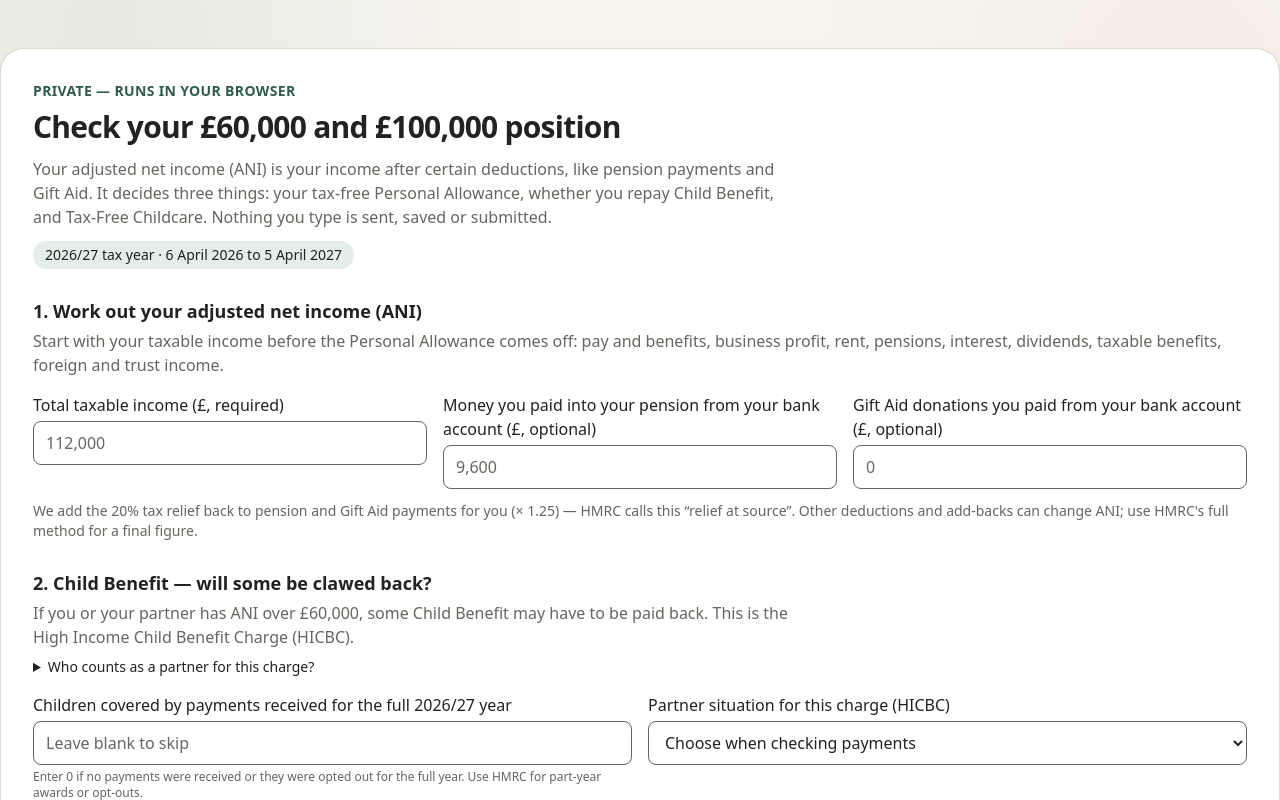
it: personal ANI threshold check › stops when Child Benefit was received by someone outside the modelled pair
In the field labelled "Total taxable income (£, required)": [230, 443] box top-left (33, 421), bottom-right (427, 465), type "70000"
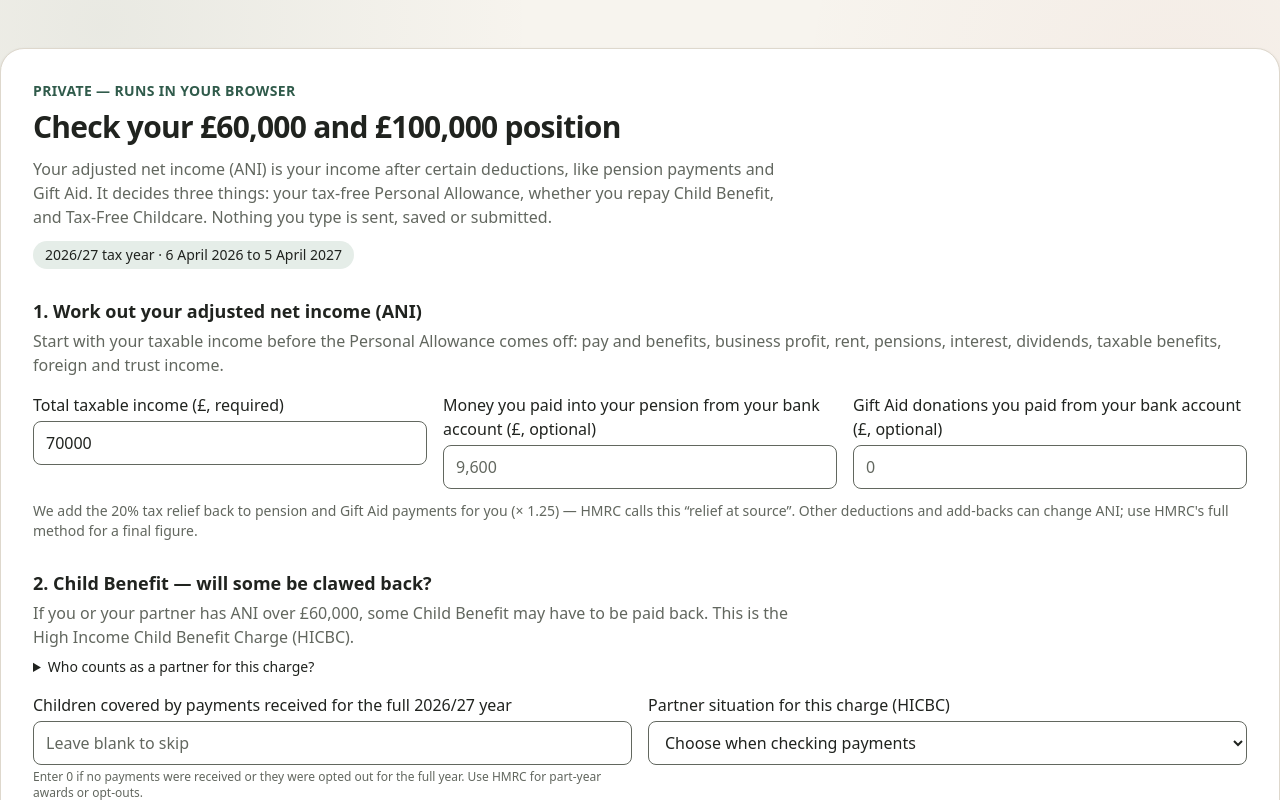
In the number field labelled "Children covered by payments received": [332, 743] box top-left (33, 721), bottom-right (632, 765), type "1"
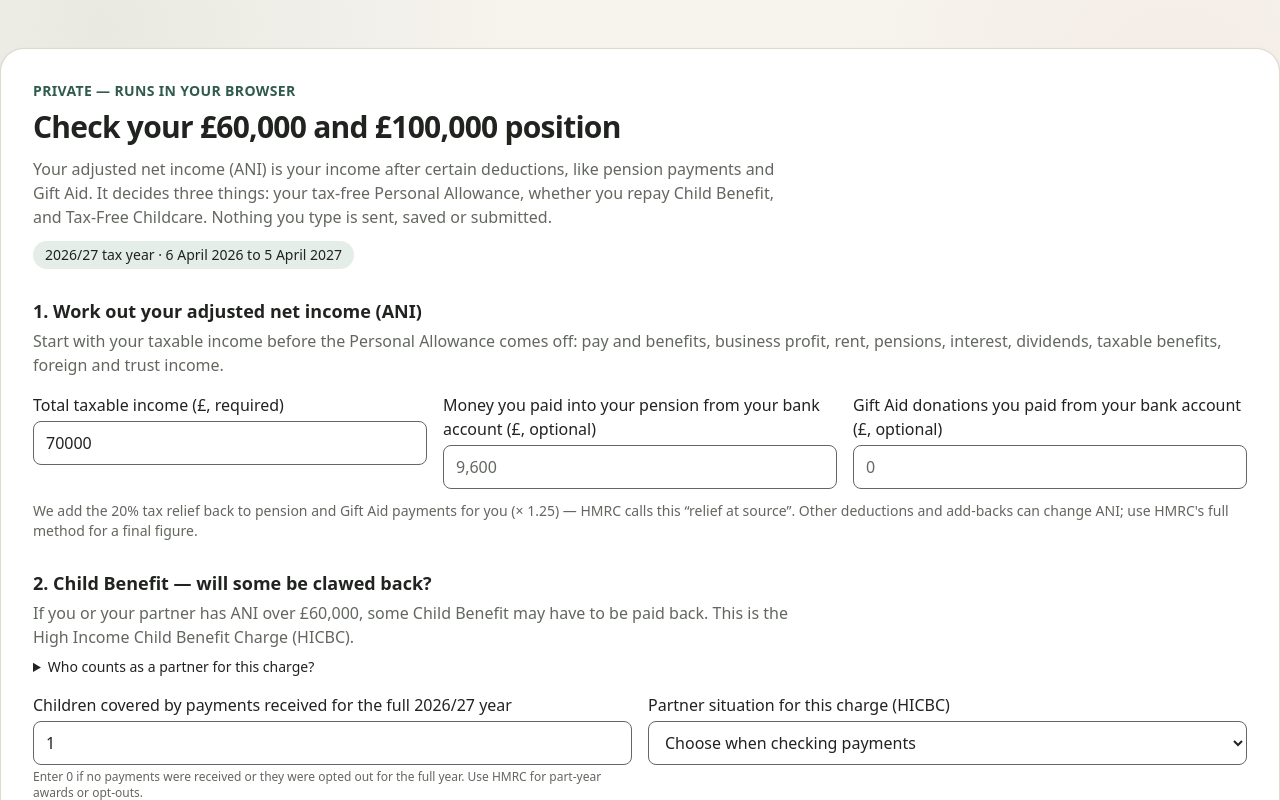
Select "No partner under this definition" in the dropdown labelled "Partner situation for this charge (HICBC)": [948, 743] box top-left (648, 721), bottom-right (1247, 765)
(page scrolled)
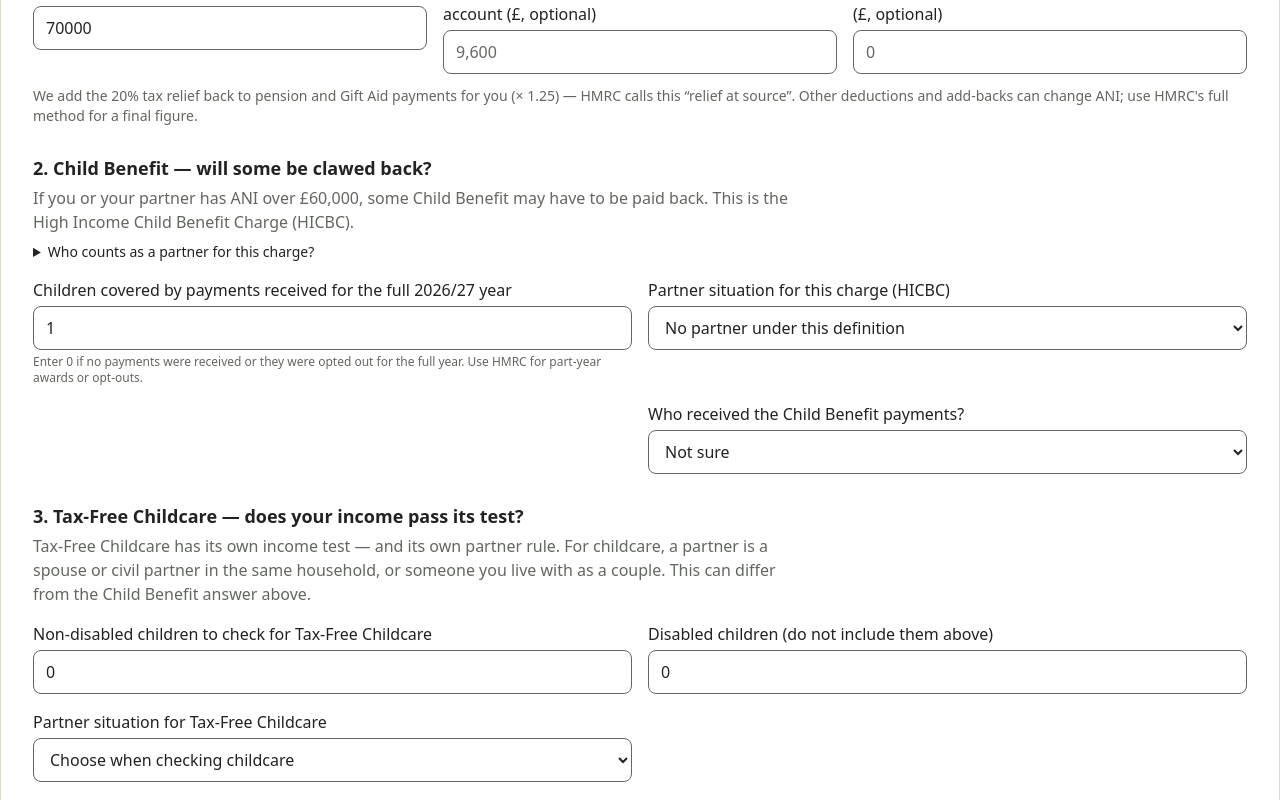
Select "Someone outside this pair" in the dropdown labelled "Who received the Child Benefit payments?": [948, 452] box top-left (648, 430), bottom-right (1247, 474)
(page scrolled)
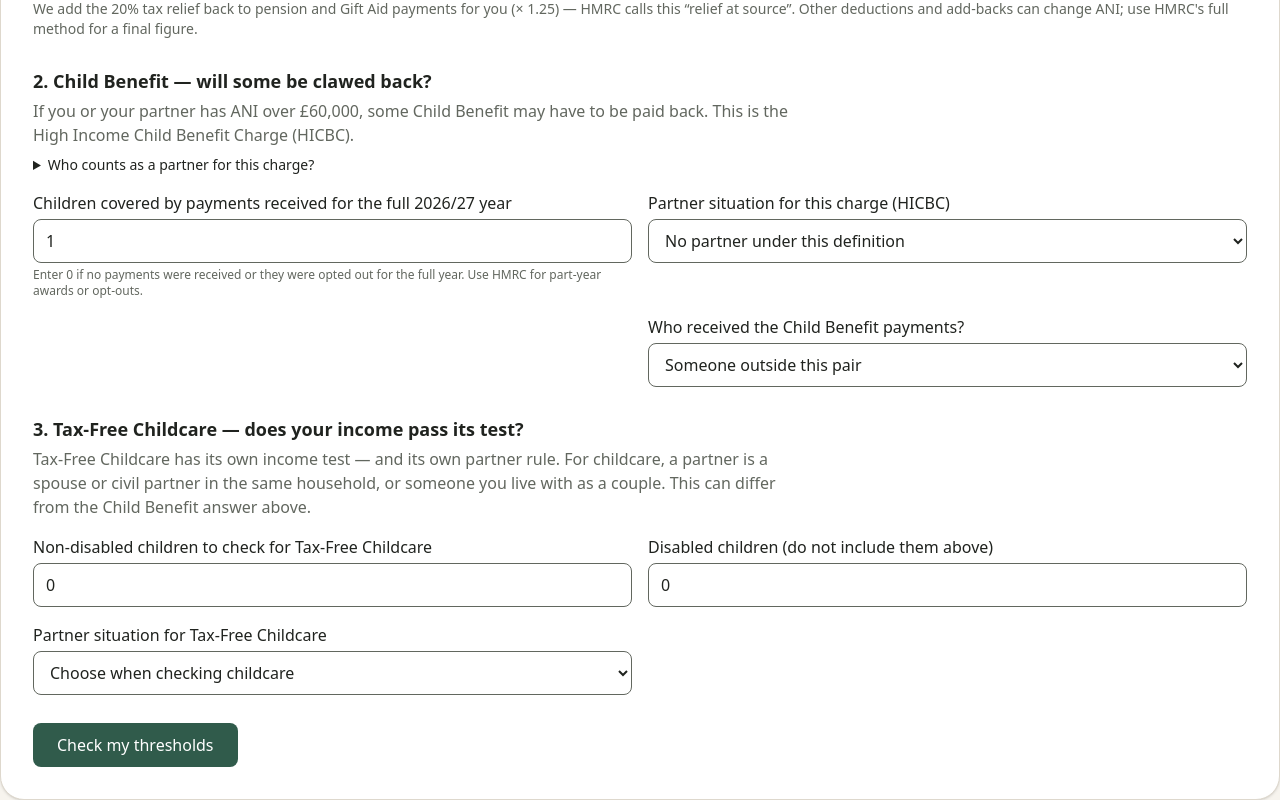
Click the button "Check my thresholds": [135, 745] box top-left (33, 723), bottom-right (238, 767)
(page scrolled)
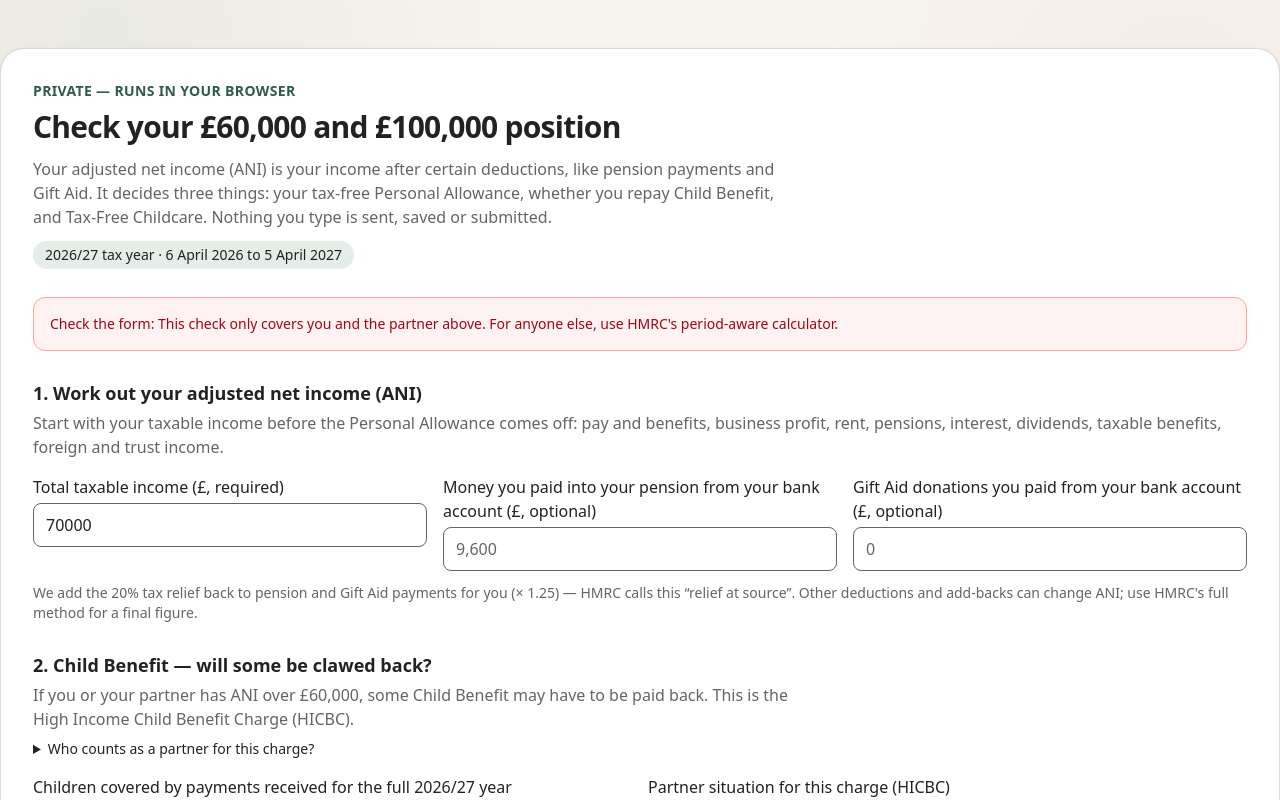
Result: the text "only covers you and the partner above" is shown at top-left (50, 314), bottom-right (838, 333)
